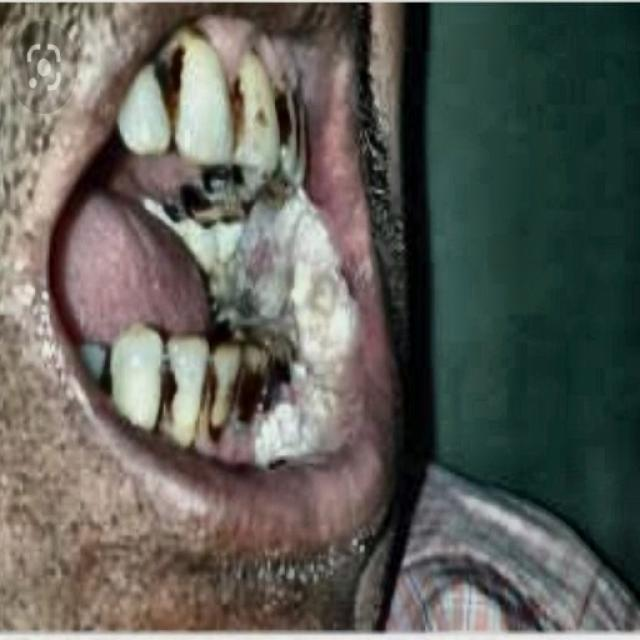cancer-detection: (147, 199, 367, 467)
processing_area: (65, 167, 372, 486)
